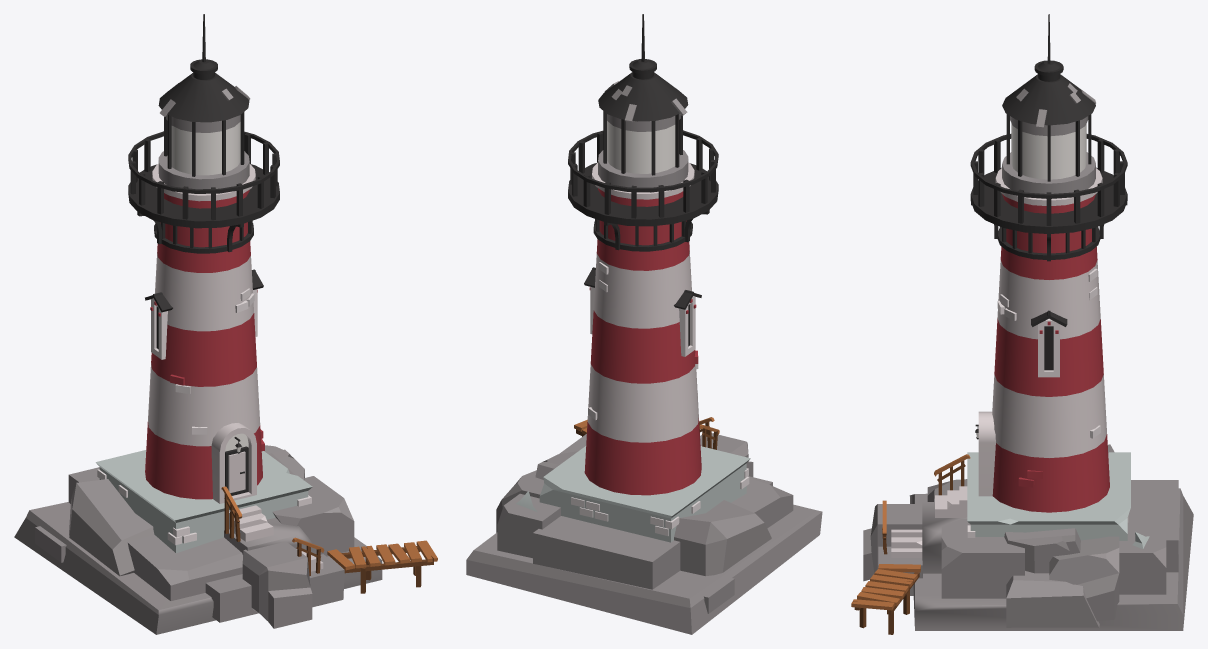
The model's file is asset.glb.
3 views of the same model, side by side, from view 1: azimuth 30°, elevation 25°; view 2: azimuth 150°, elevation 25°; view 3: azimuth 270°, elevation 25° (orthographic). The views are drawn at different scales.
Parts seen in each view (by area): view 1: node-0; view 2: node-0; view 3: node-0.
Boxes of the visible parts, x1=… form: node-0: x1=14, y1=14, x2=437, y2=634; node-0: x1=466, y1=14, x2=822, y2=634; node-0: x1=851, y1=14, x2=1193, y2=634.
Bounding box in the file's own units: 10.05 × 19.7 × 10.92.
Materials: 1 (1 with a texture image).
